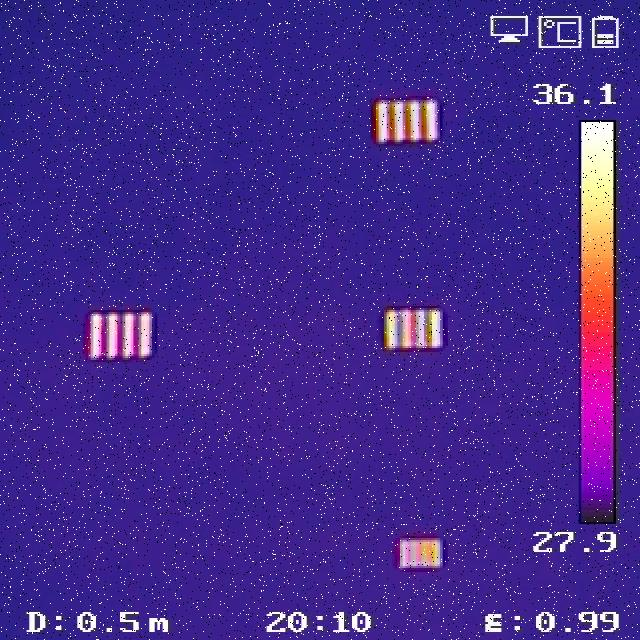Distinguishable 4-bar target: (88, 311, 156, 360), (373, 98, 438, 143), (384, 311, 441, 347)
threshold 4-bar target: (396, 537, 443, 570)
